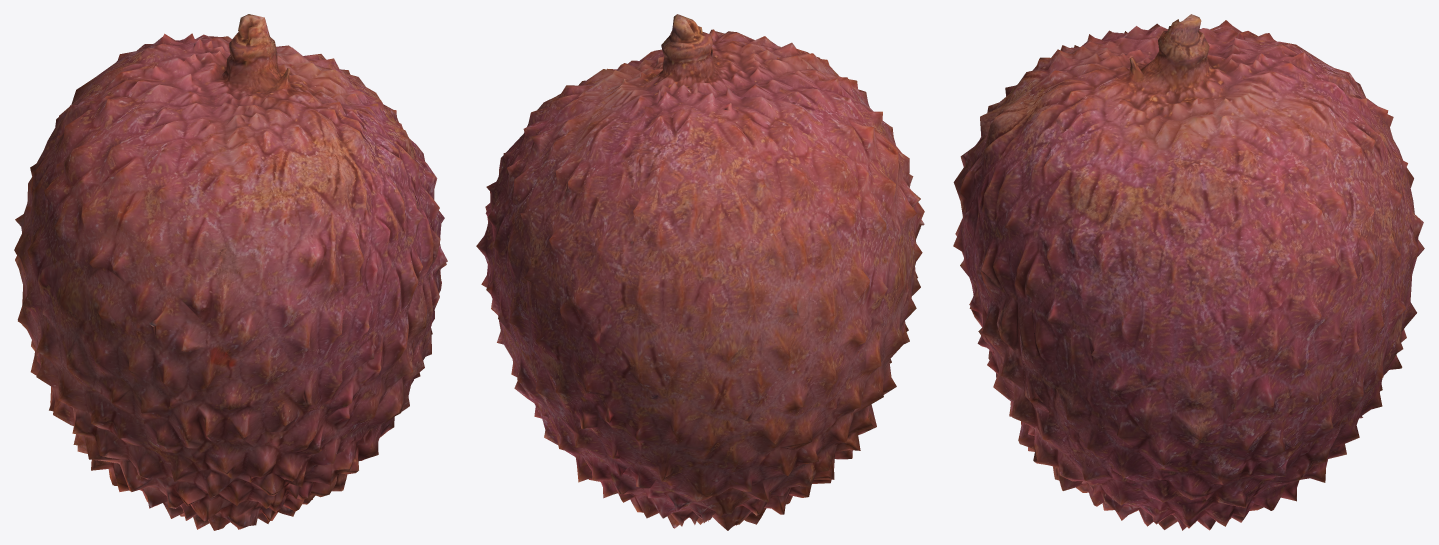
Rendered from food_lychee_01_4k.gltf.
The picture shows the model from 3 angles, left to right: view 1: azimuth 30°, elevation 25°; view 2: azimuth 150°, elevation 25°; view 3: azimuth 270°, elevation 25°; orthographic projection. The views are drawn at different scales.
Parts seen in each view (by area): view 1: food_lychee_01; view 2: food_lychee_01; view 3: food_lychee_01.
Part boxes in pixels (x1,y1,x2,y2): food_lychee_01: (14, 14, 447, 530); food_lychee_01: (476, 14, 924, 530); food_lychee_01: (953, 14, 1424, 530).
Size of the model in its own units: 0.0409 by 0.0506 by 0.042.
1 material, 1 textured.
